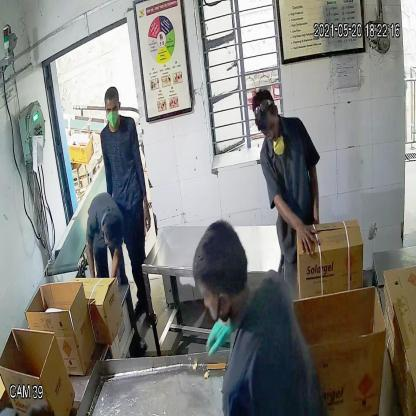no_goggles: (104, 104, 121, 116)
